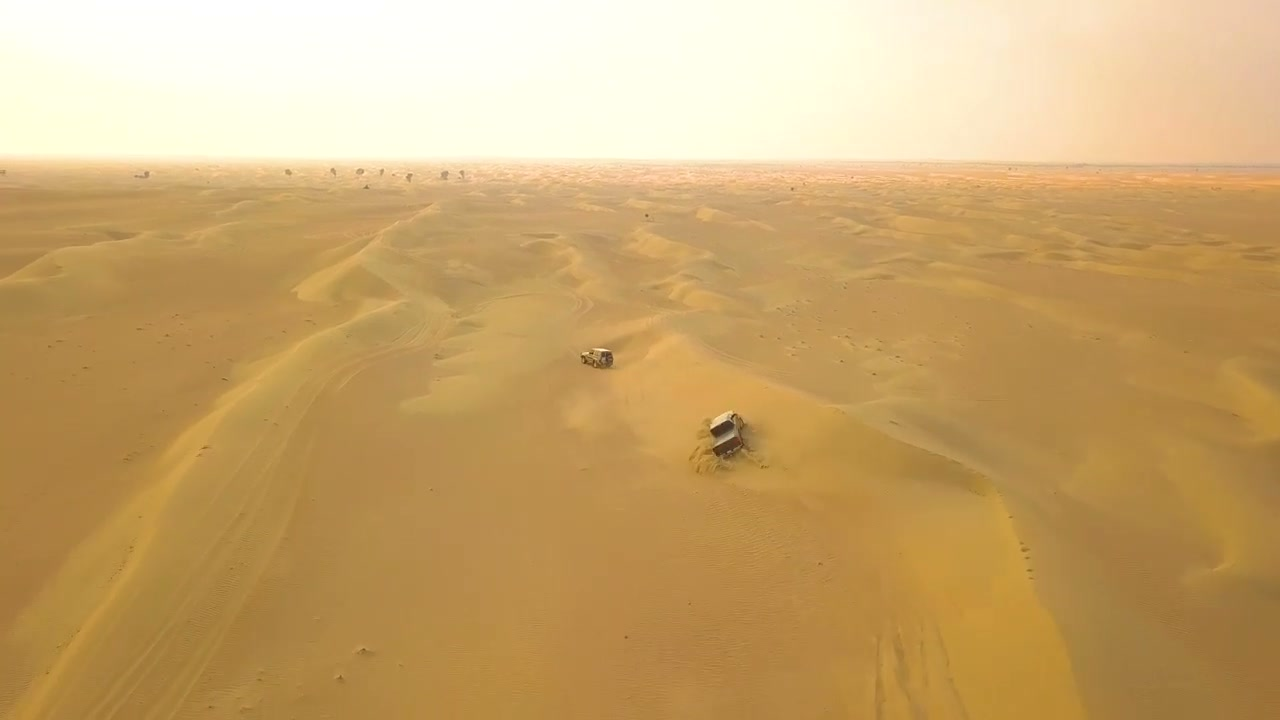vehicle_track: (97, 344, 380, 719)
